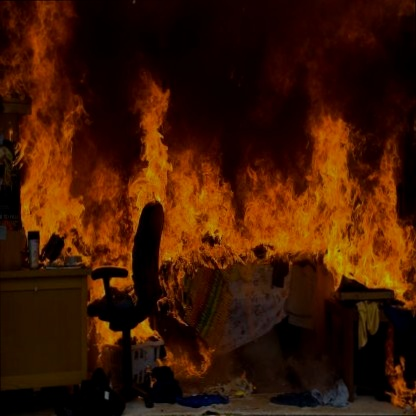fire: (0, 0, 416, 359)
